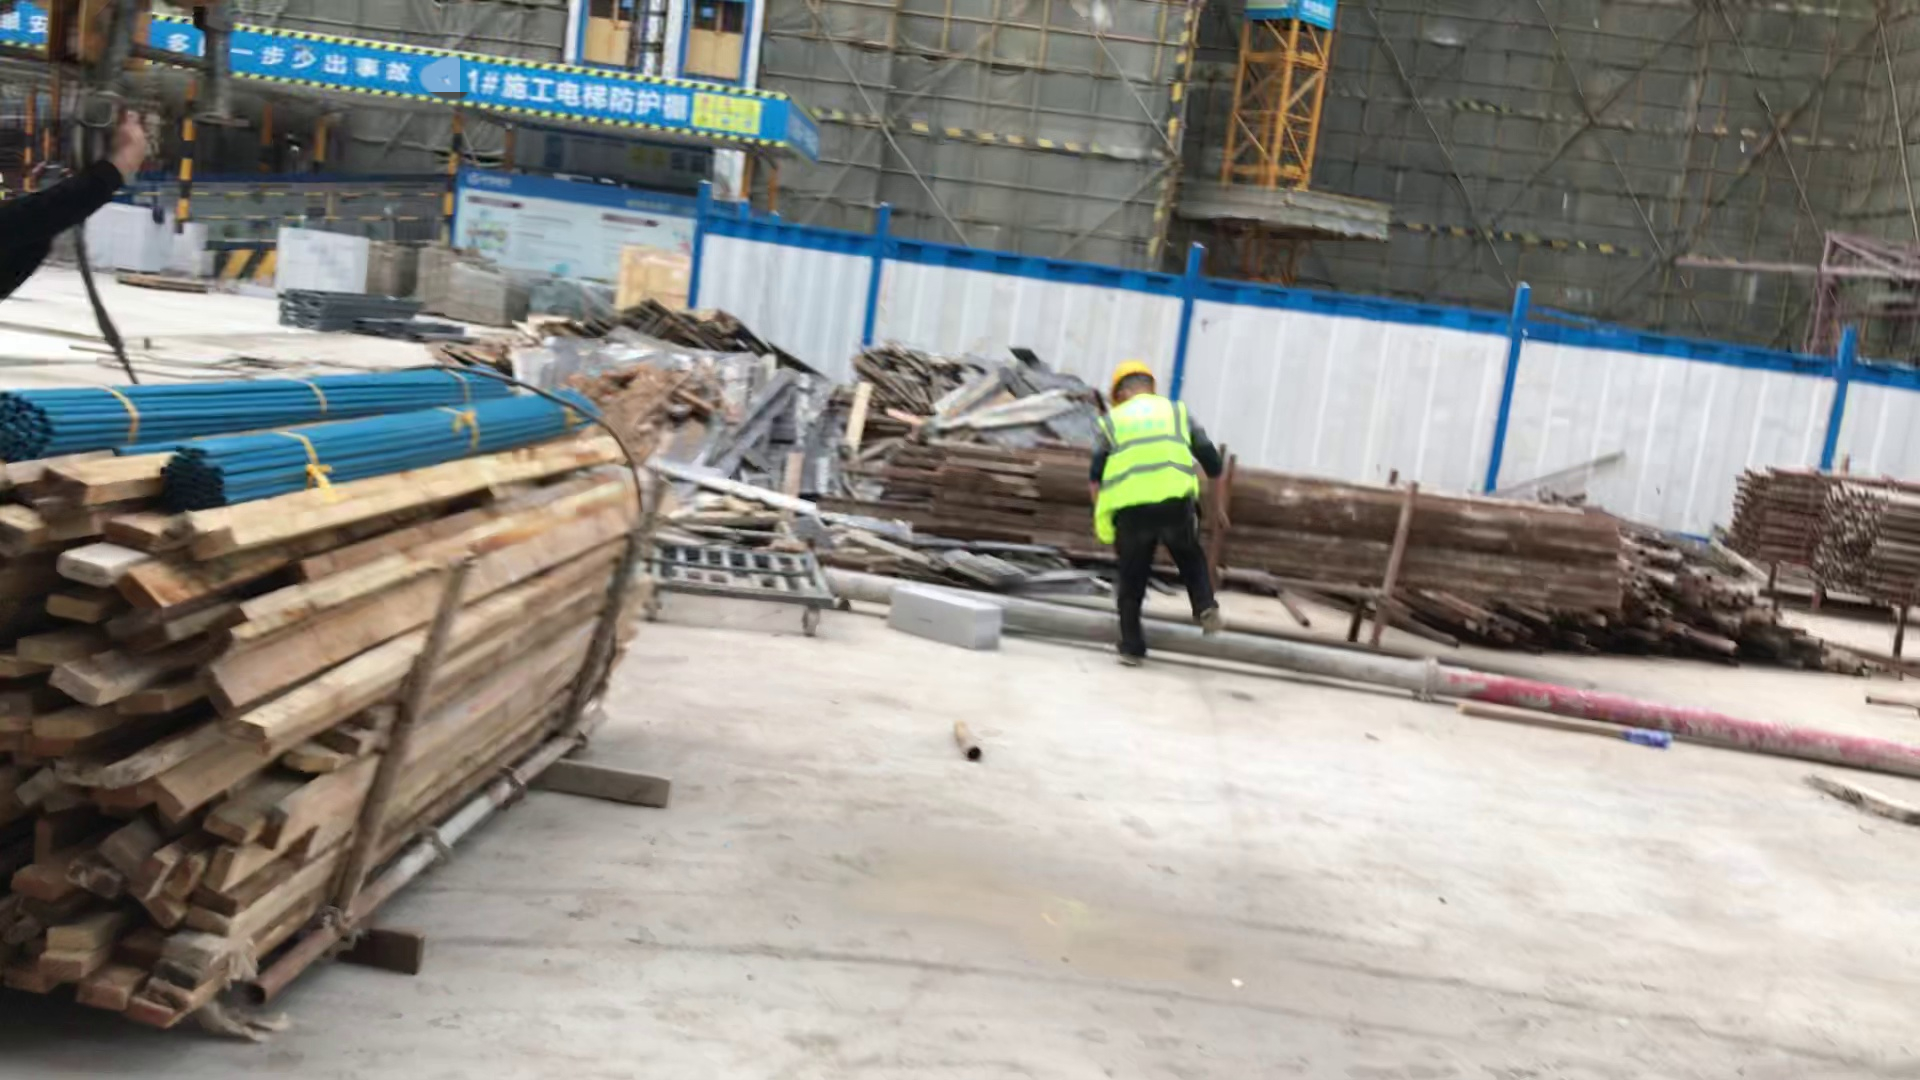board: (526, 320, 867, 542), (945, 338, 1119, 441)
brick: (260, 211, 541, 330), (73, 196, 223, 288), (881, 572, 1015, 666)
fence: (154, 178, 454, 255)
helmet: (1100, 357, 1169, 399)
person: (1083, 353, 1262, 688)
scaffold: (1744, 450, 1920, 588)
slogan: (1, 3, 776, 168), (444, 170, 699, 280), (776, 74, 852, 168), (1238, 1, 1346, 54)
vest: (1087, 389, 1207, 538)
wood: (1, 309, 687, 1047)
